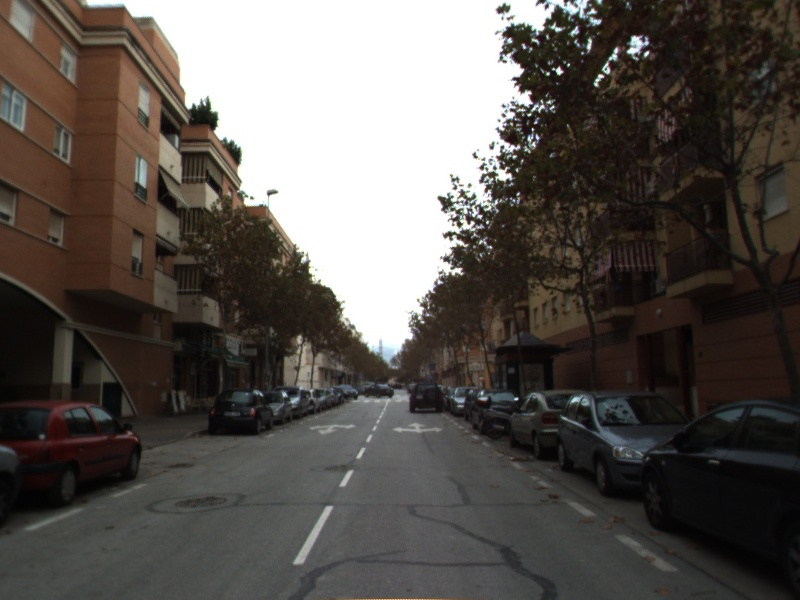STRAIGHT_LEFT_RIGHT: (391, 419, 445, 435)
